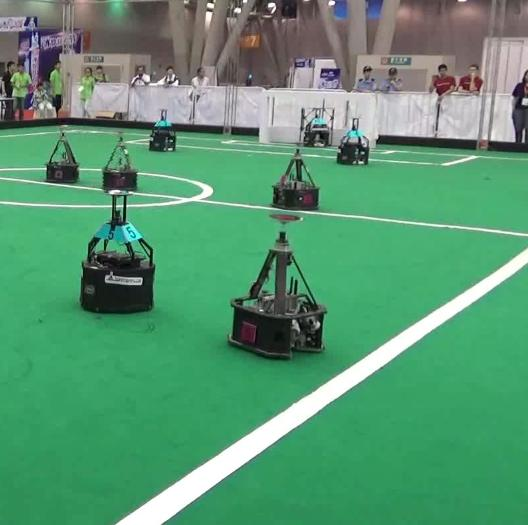robot: (224, 213, 334, 362), (74, 185, 165, 314), (269, 139, 325, 212), (99, 132, 146, 192), (43, 121, 85, 185), (335, 114, 371, 166), (142, 105, 181, 153)
